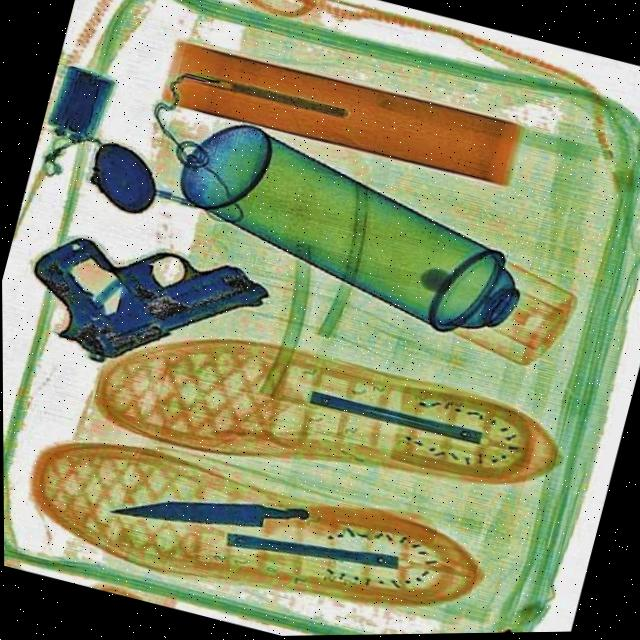knife: (105, 457, 309, 562)
pistol: (9, 212, 277, 402)
